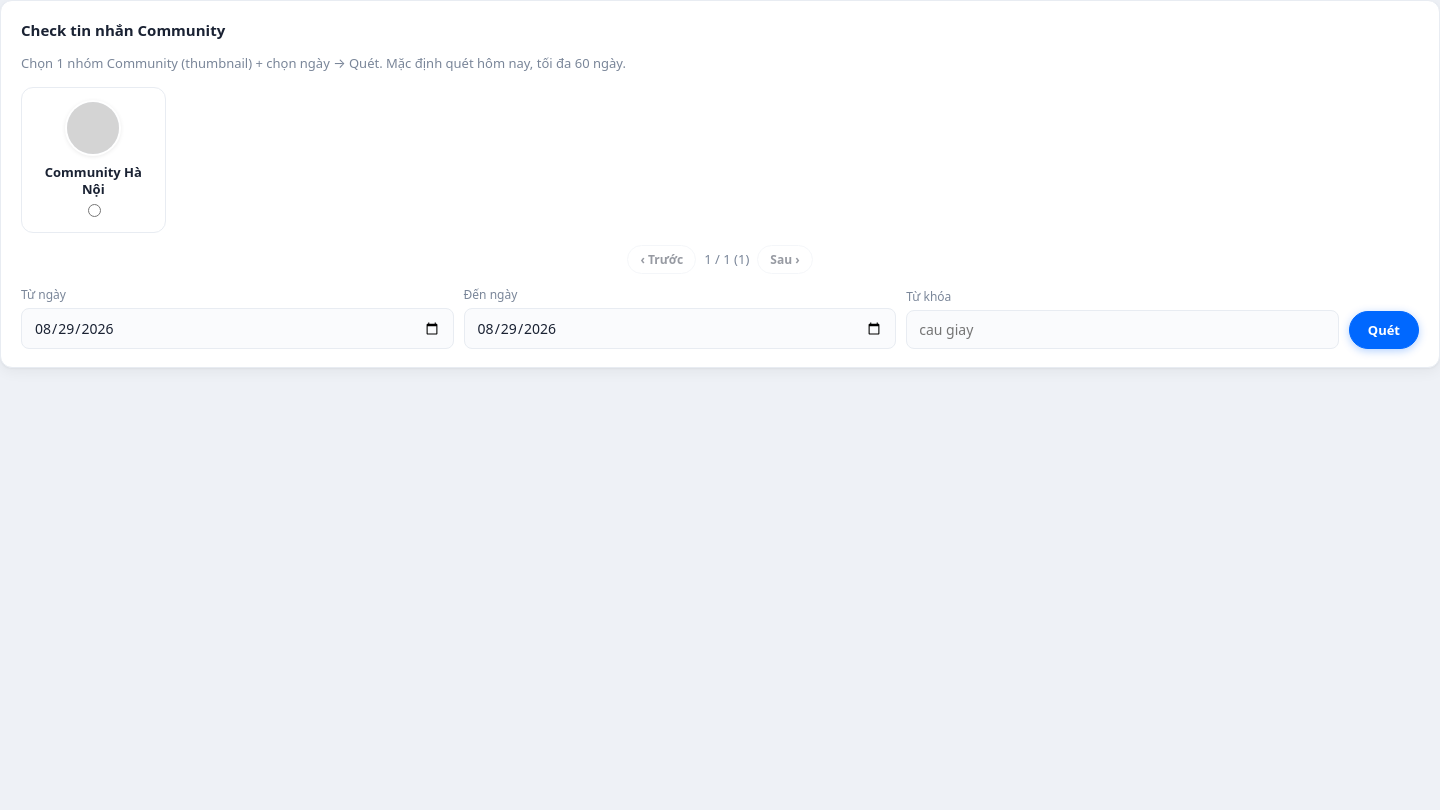
CommunityCheckPanel › xóa kết quả cũ ngay khi lần quét mới thất bại
Click the radio button named "Chọn Community Hà Nội": x=94, y=210 [88,204,101,217]
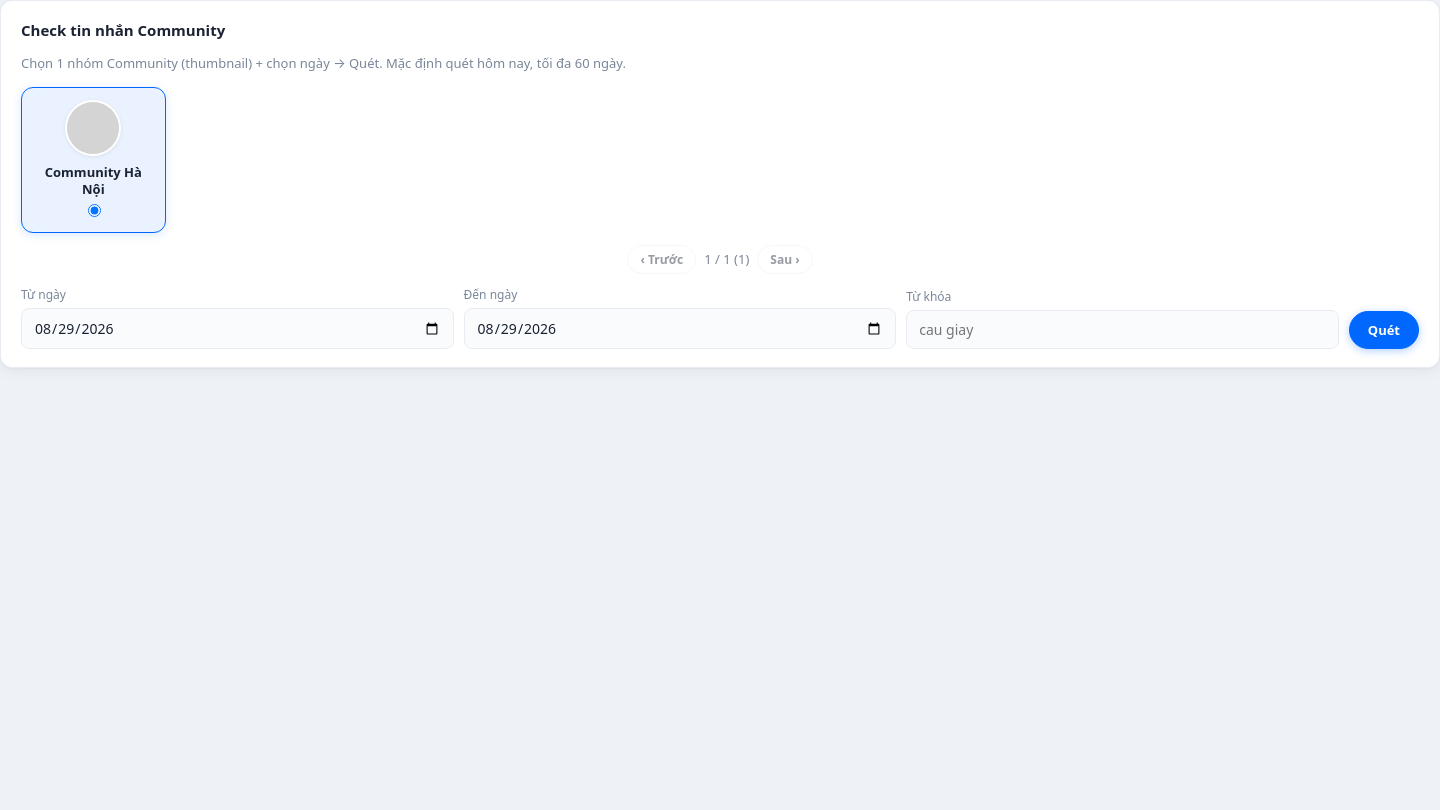
Click the button "Quét": x=1384, y=330 [1349,311,1419,349]
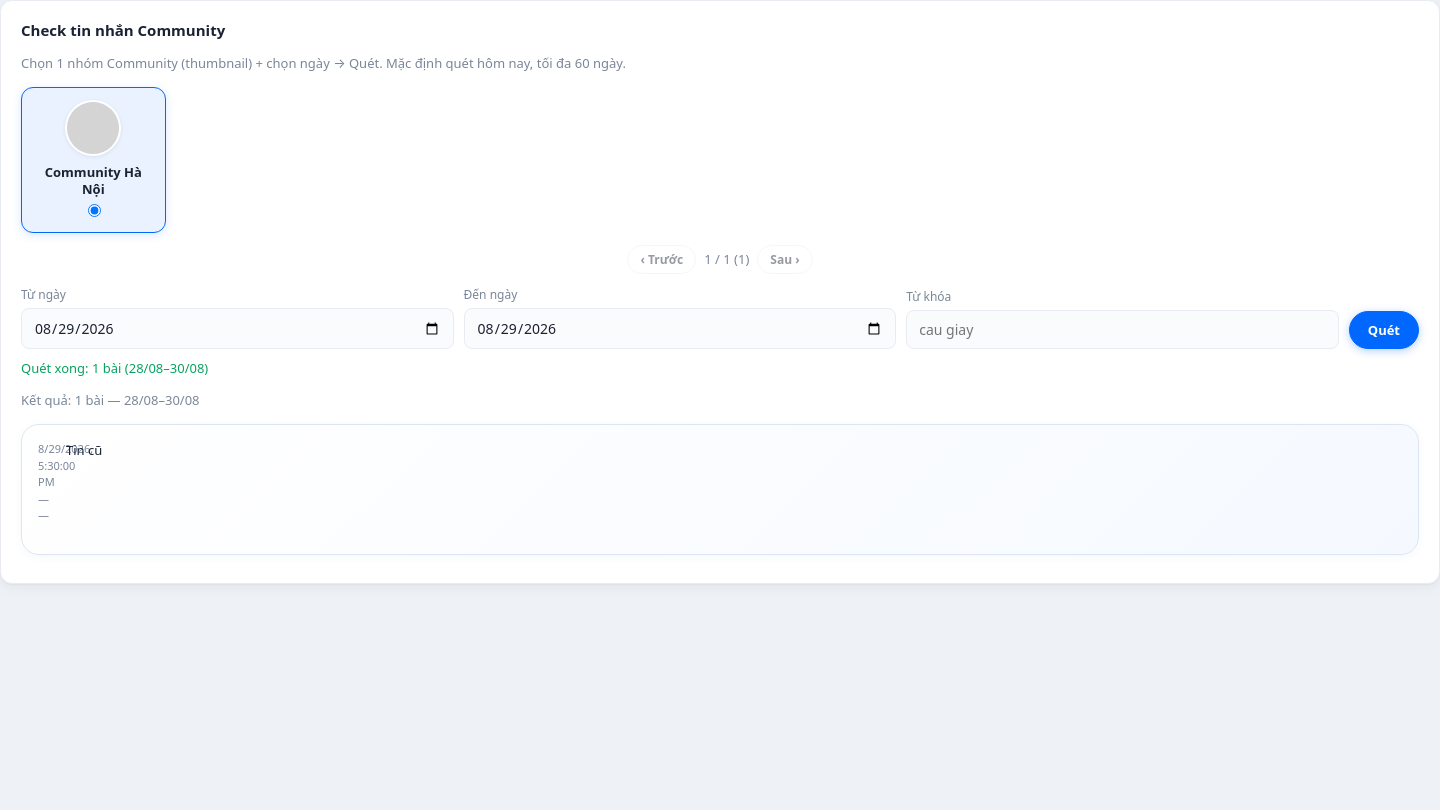
Result: the text "Tin cũ" is shown at [66,441,102,459]
Click the button "Quét": x=1384, y=330 [1349,311,1419,349]
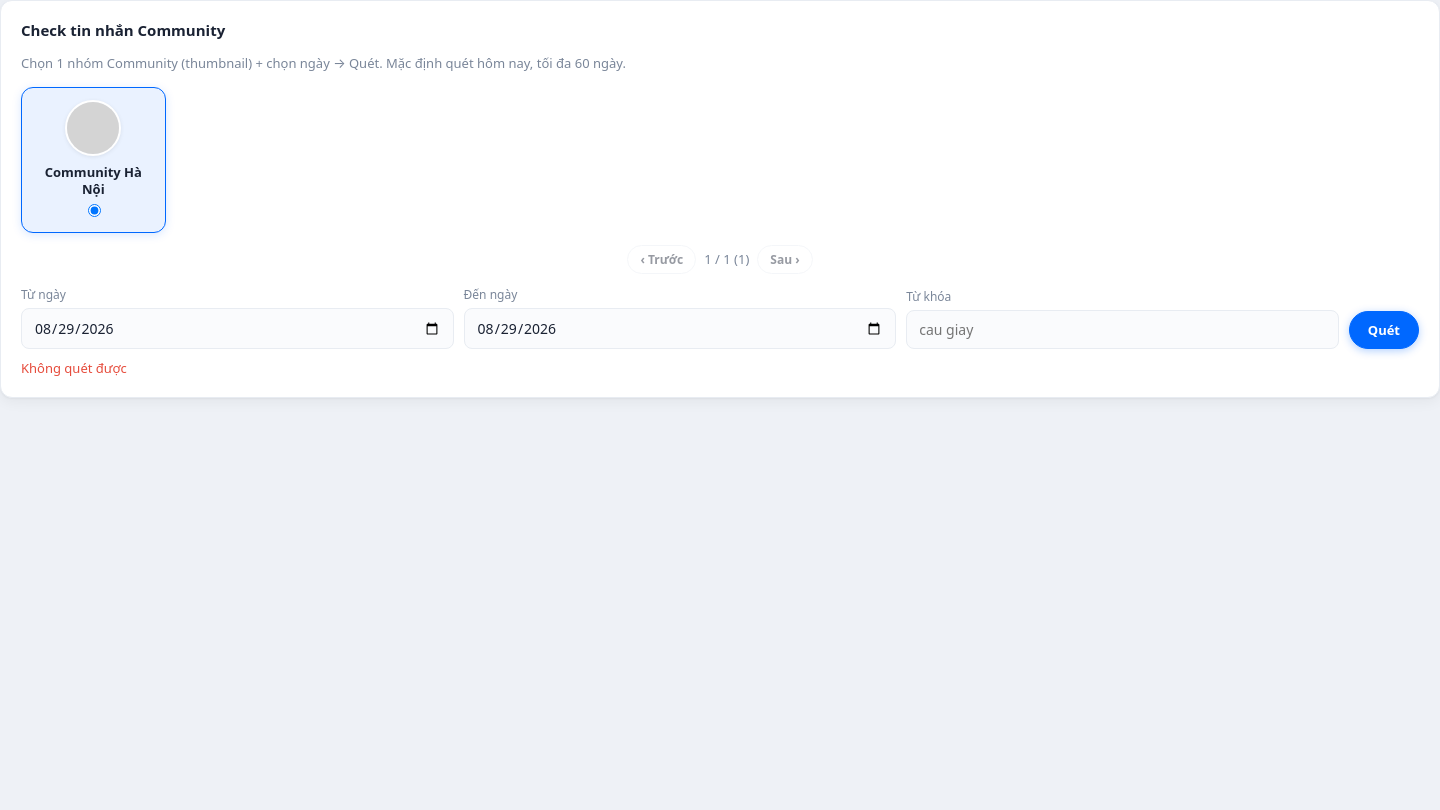
Result: the text "Không quét được" is shown at [21,359,127,377]
Result: the text "Tin cũ" is gone
